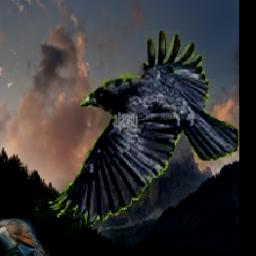Crow: (33, 29, 238, 229)
Cuckoo: (0, 219, 50, 256)
